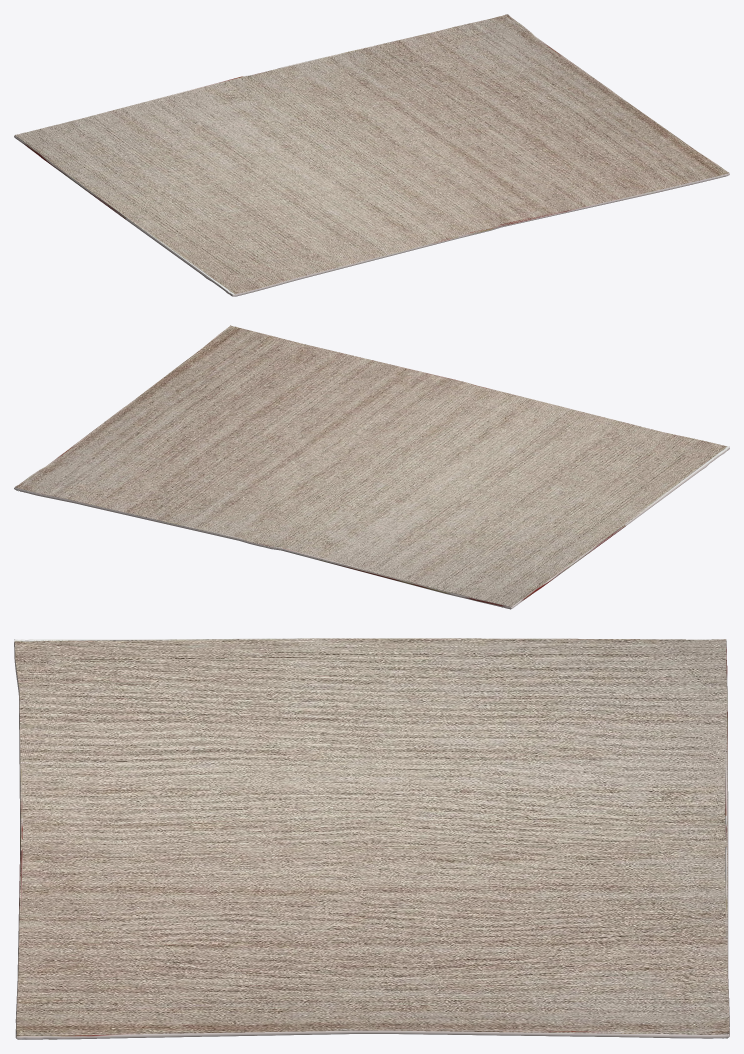
File: B07B4SDLJM.glb
The picture shows the model from 3 angles, top to bottom: view 1: azimuth 30°, elevation 25°; view 2: azimuth 150°, elevation 25°; view 3: azimuth 270°, elevation 25°; orthographic projection. The views are drawn at different scales.
Parts seen in each view (by area): view 1: RootNode; view 2: RootNode; view 3: RootNode.
Part boxes in pixels (x1,y1,x2,y2): RootNode: (14, 14, 729, 296); RootNode: (14, 325, 729, 609); RootNode: (14, 638, 729, 1039).
Bounding box in the file's own units: 3.2 × 0.0449 × 2.43.
Materials: 1 (1 with a texture image).
